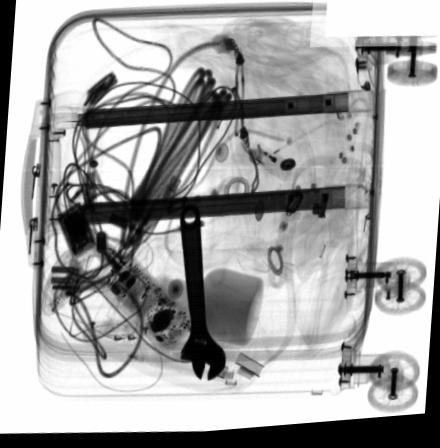Wrench: (179, 205, 225, 383)
